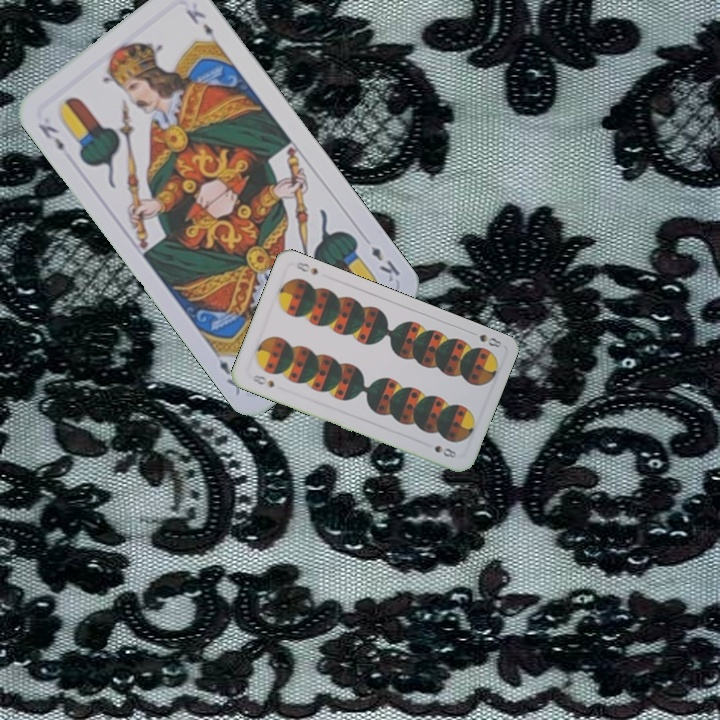EK: (367, 242, 403, 285), (34, 119, 67, 154)
S8: (465, 327, 504, 350), (248, 370, 277, 390)
